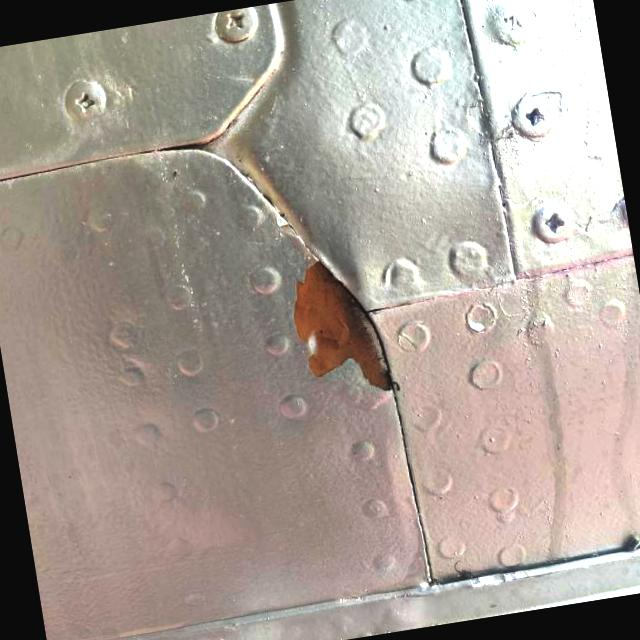paint-off: (251, 230, 429, 430)
